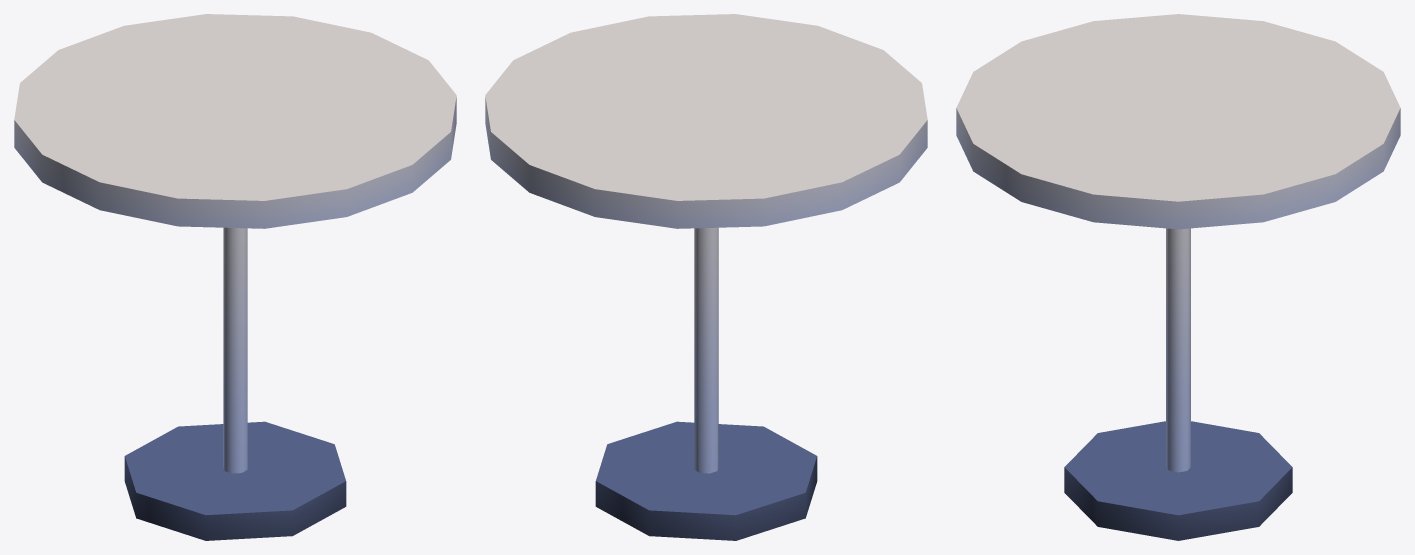
File: Table_02.fbx
3 renders of one model, left to right at view 1: azimuth 30°, elevation 25°; view 2: azimuth 150°, elevation 25°; view 3: azimuth 270°, elevation 25°, orthographic.
Visible parts, largest first — view 1: Table_02; view 2: Table_02; view 3: Table_02.
Part boxes in pixels (x1,y1,x2,y2): Table_02: (14, 14, 456, 540); Table_02: (485, 14, 927, 540); Table_02: (956, 14, 1400, 540).
Bounding box in the file's own units: 98.79 × 94.46 × 98.79.
Materials: 1 (1 with a texture image).
